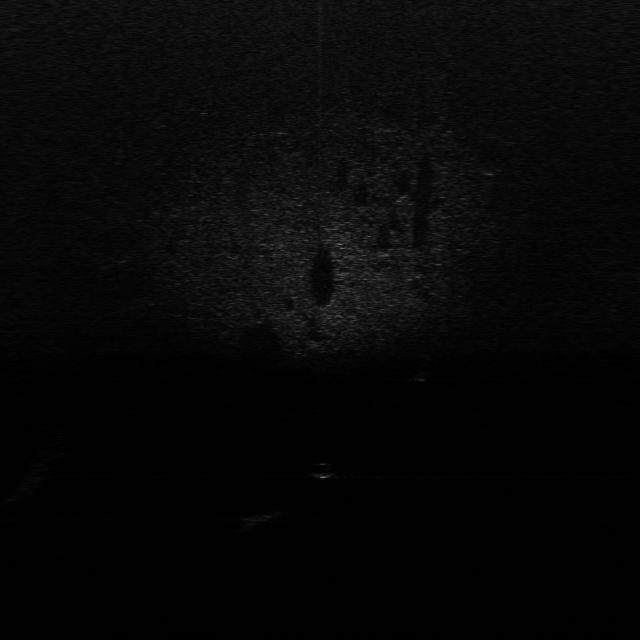ball: (307, 460, 338, 481)
square cage: (234, 506, 282, 526)
tyre: (406, 352, 443, 383)
